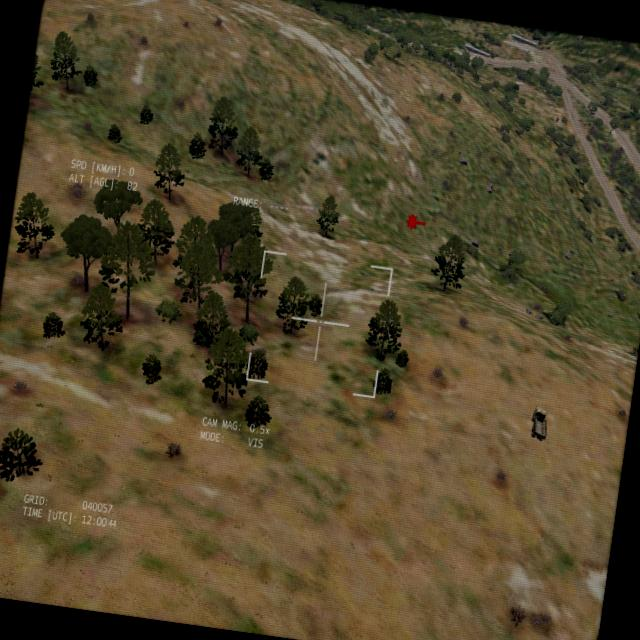truck: (527, 404, 551, 442)
